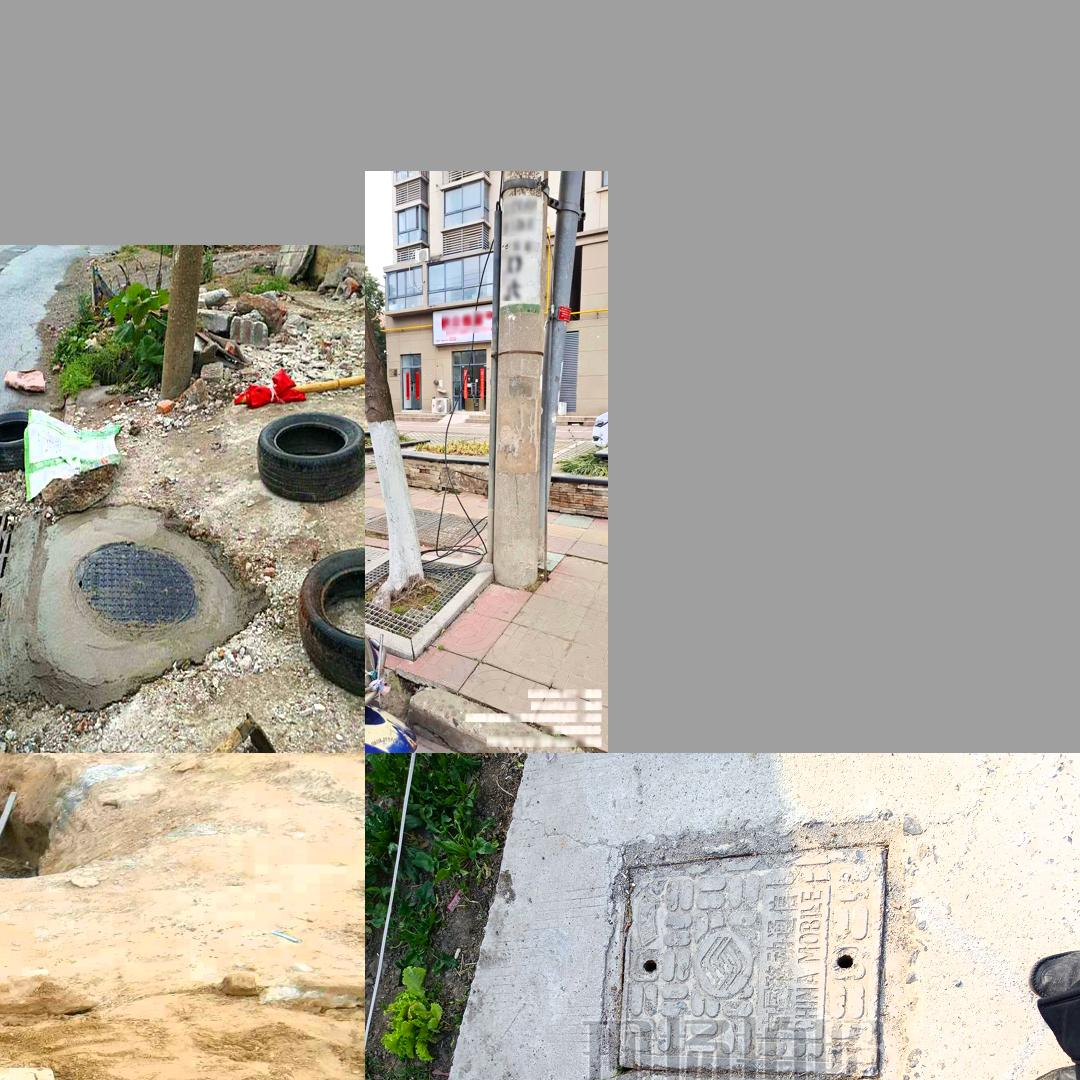good: (604, 833, 897, 1080), (8, 503, 267, 709), (365, 506, 487, 548), (0, 509, 21, 735), (0, 1067, 90, 1080)
